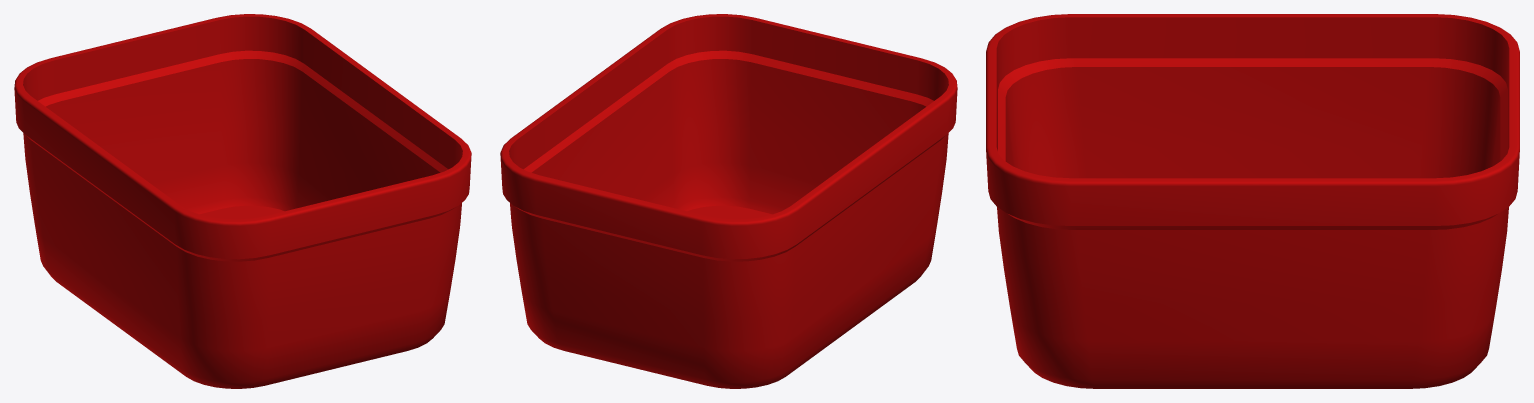
The model's file is Toys box.FBX.
3 views of the same model, side by side, from view 1: azimuth 30°, elevation 25°; view 2: azimuth 150°, elevation 25°; view 3: azimuth 270°, elevation 25° (orthographic). The views are drawn at different scales.
Visible parts, largest first — view 1: toys box; view 2: toys box; view 3: toys box.
Boxes of the visible parts, x1,y1,x2,y2 form: toys box: [14, 14, 471, 388]; toys box: [500, 14, 957, 388]; toys box: [986, 14, 1519, 388].
Size of the model in its own units: 37.59 by 22.67 by 49.89.
